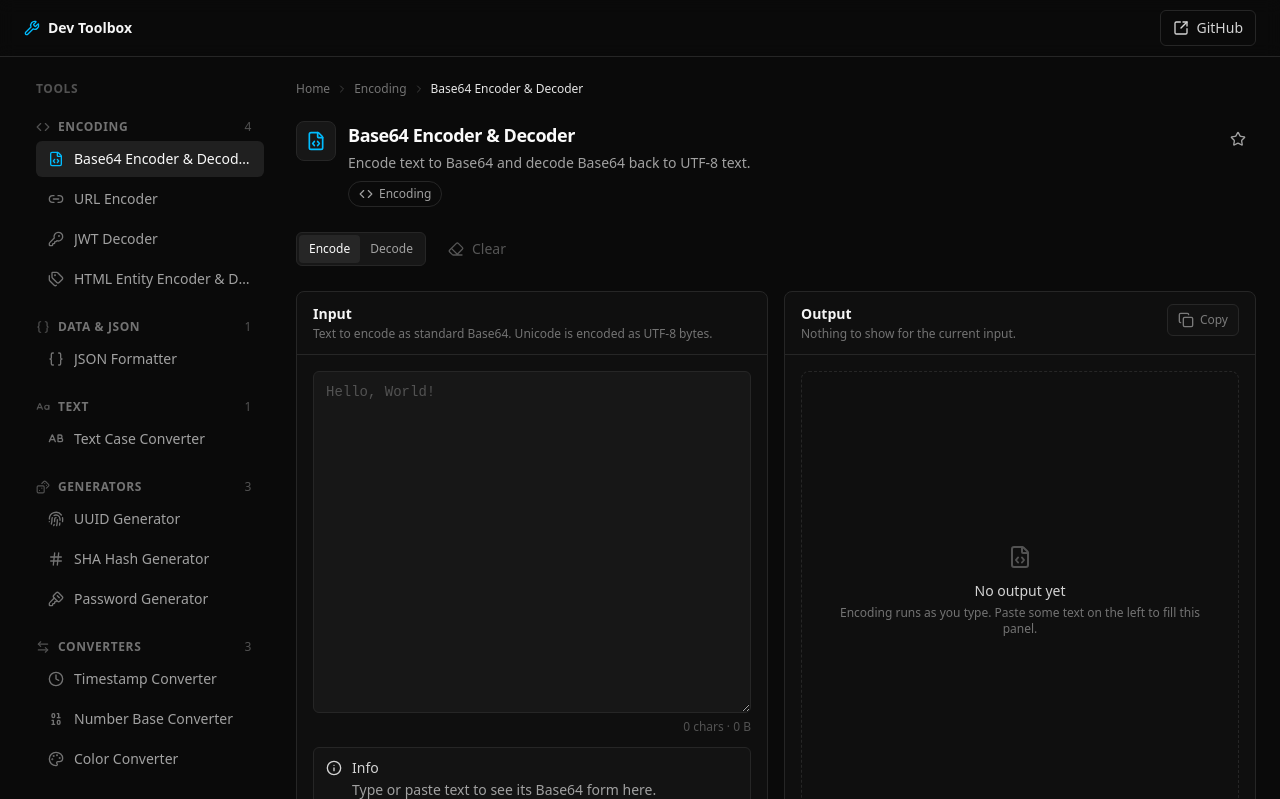
it: Base64 Encoder & Decoder › rejects input that is not valid Base64
This screenshot has width=1280, height=799.
Expected: the heading "Base64 Encoder & Decoder" is shown, [348,123,575,147]
Click the radio button labelled "Decode": (392, 248) [370,240,413,257]
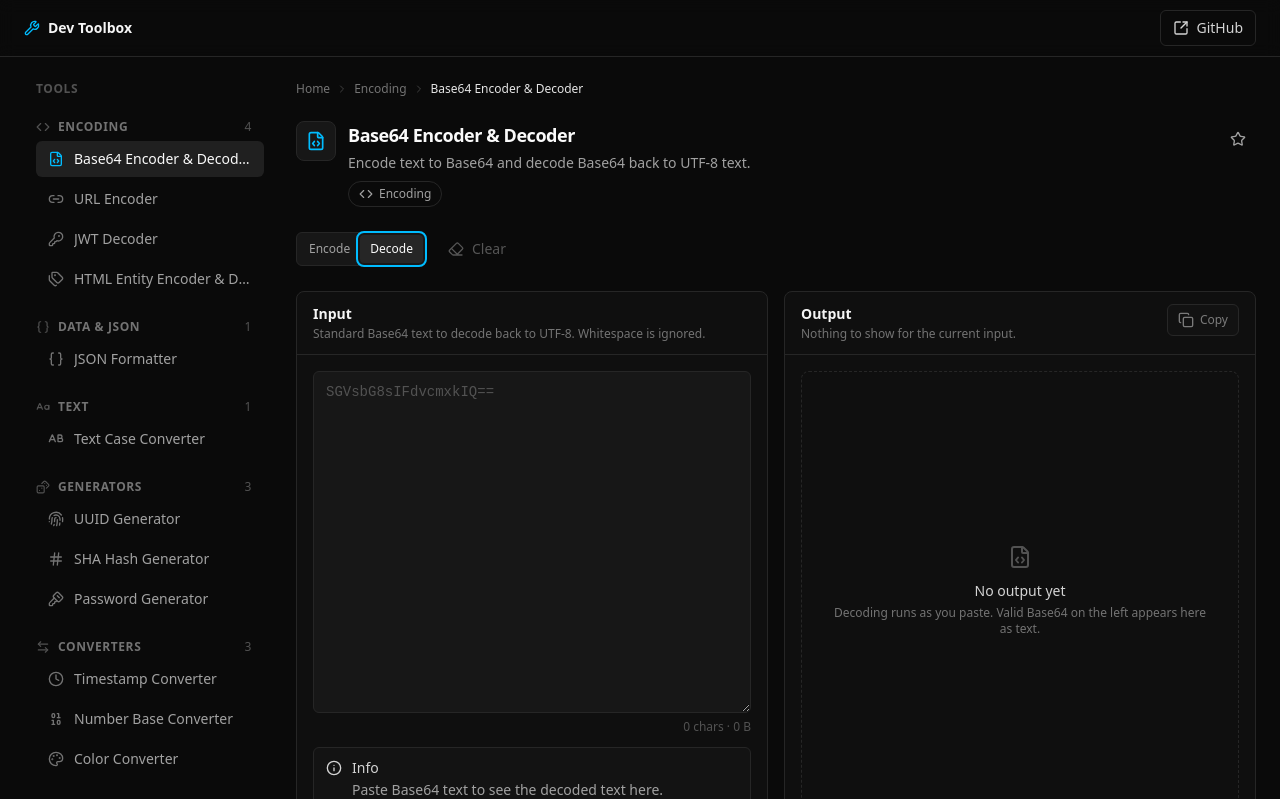
In the text box named "Base64 to decode": (532, 542) [313,371,751,713], type "%%%"
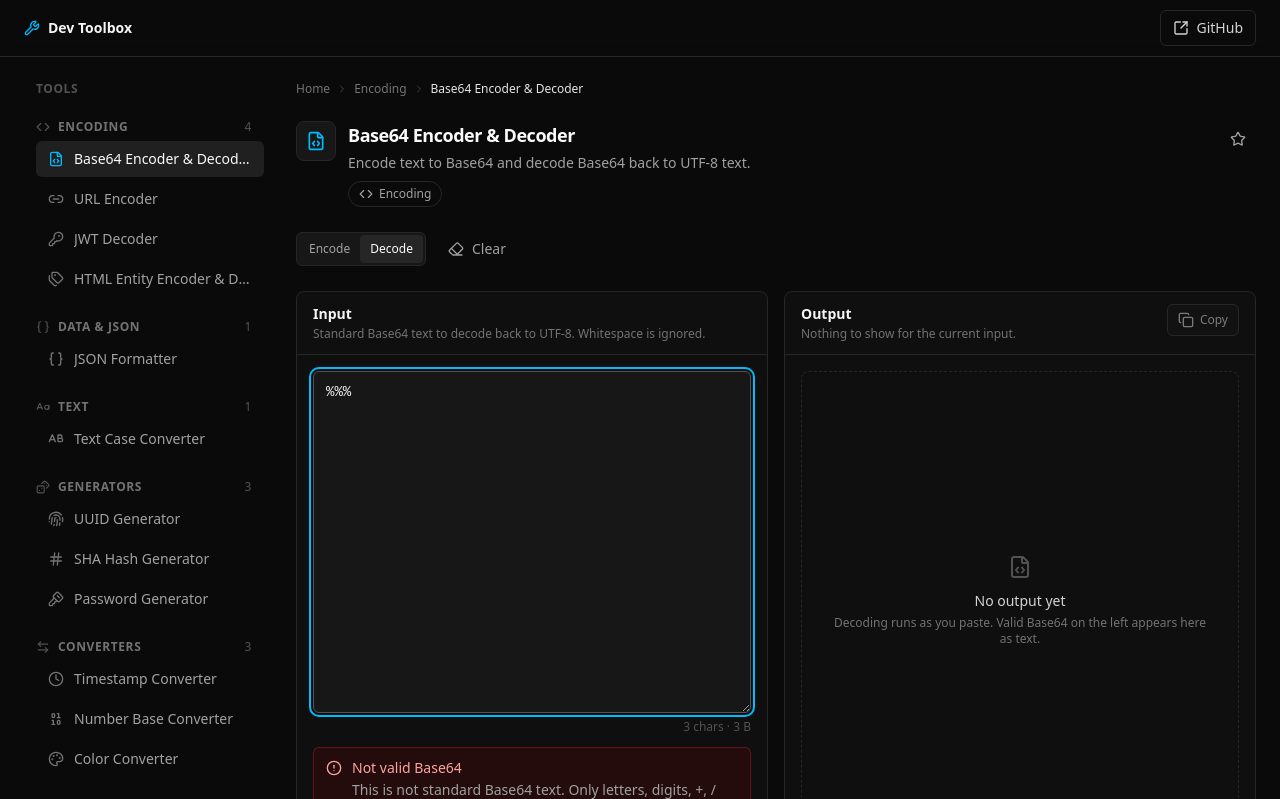
Expected: the heading "No output yet" is shown, [974,591,1066,610]
Expected: the text "Not valid Base64" is shown, [352,758,462,777]
